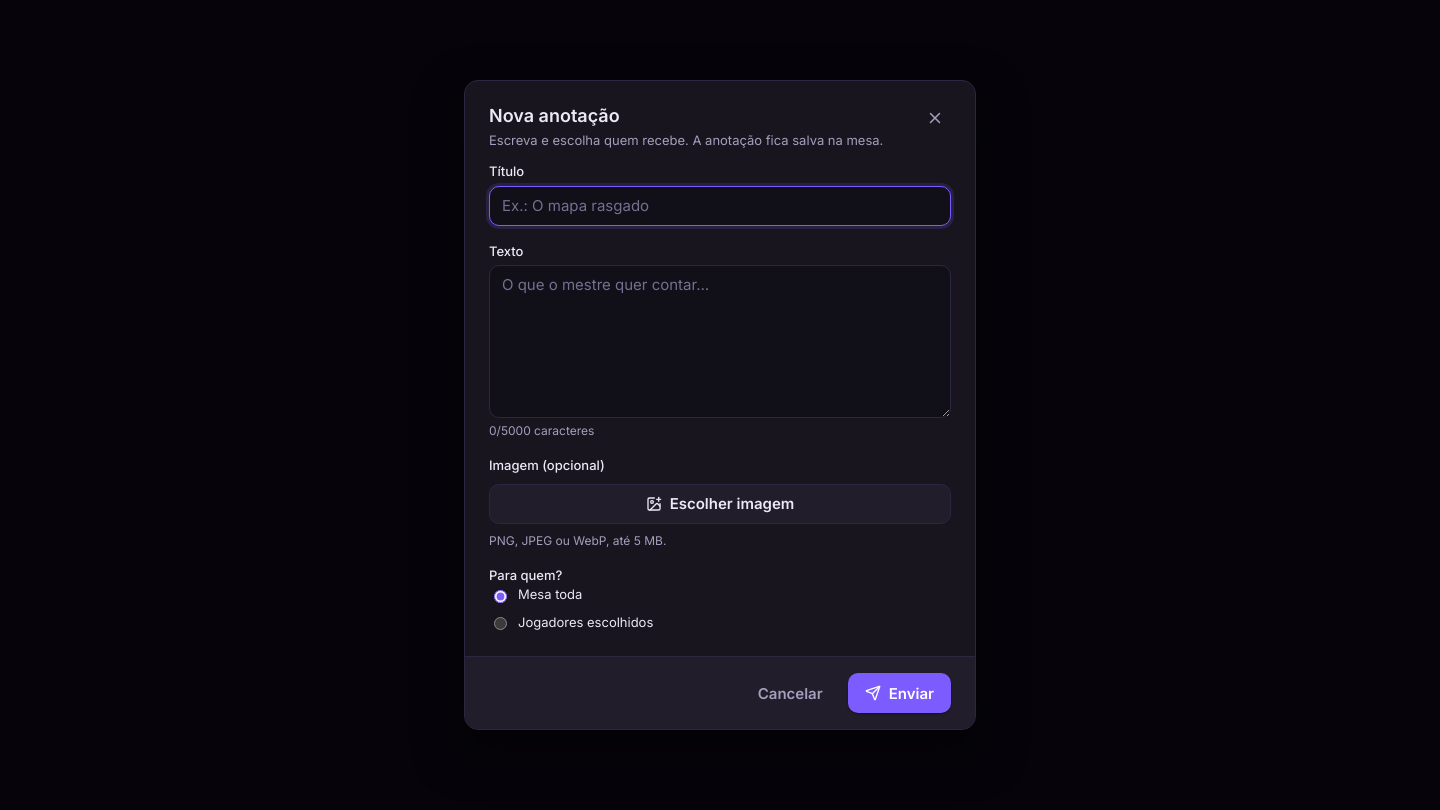
Test case: nova anotação › shouldBringAGroupErrorIntoViewWhenNoFieldIsInvalid
The image size is (1440, 810).
Type "Segredo" into the field labelled "Título".
click(720, 206); type("Segredo")  # box [489, 186, 951, 226]
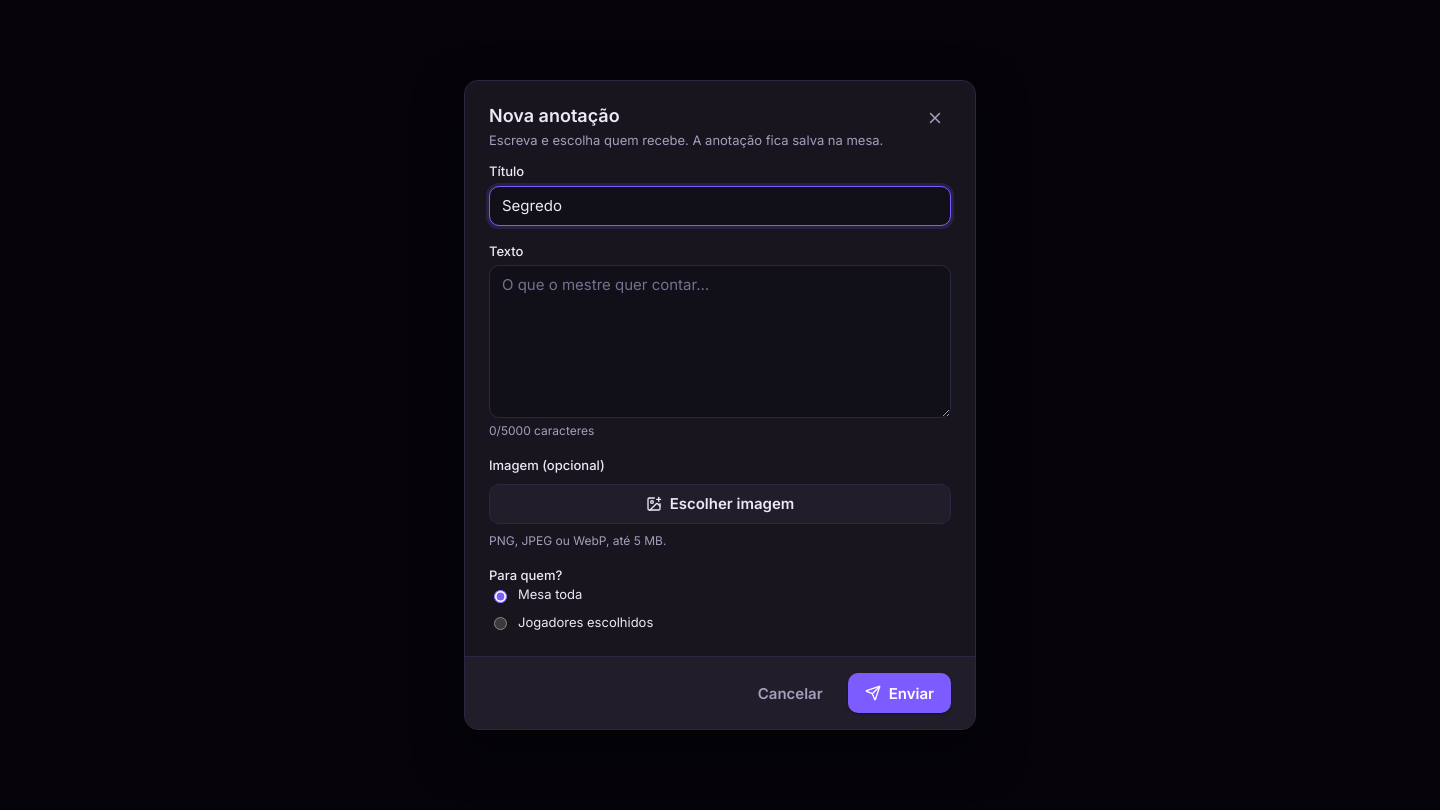
Click the radio button labelled "Jogadores escolhidos".
click(500, 624)  # box [494, 617, 507, 630]
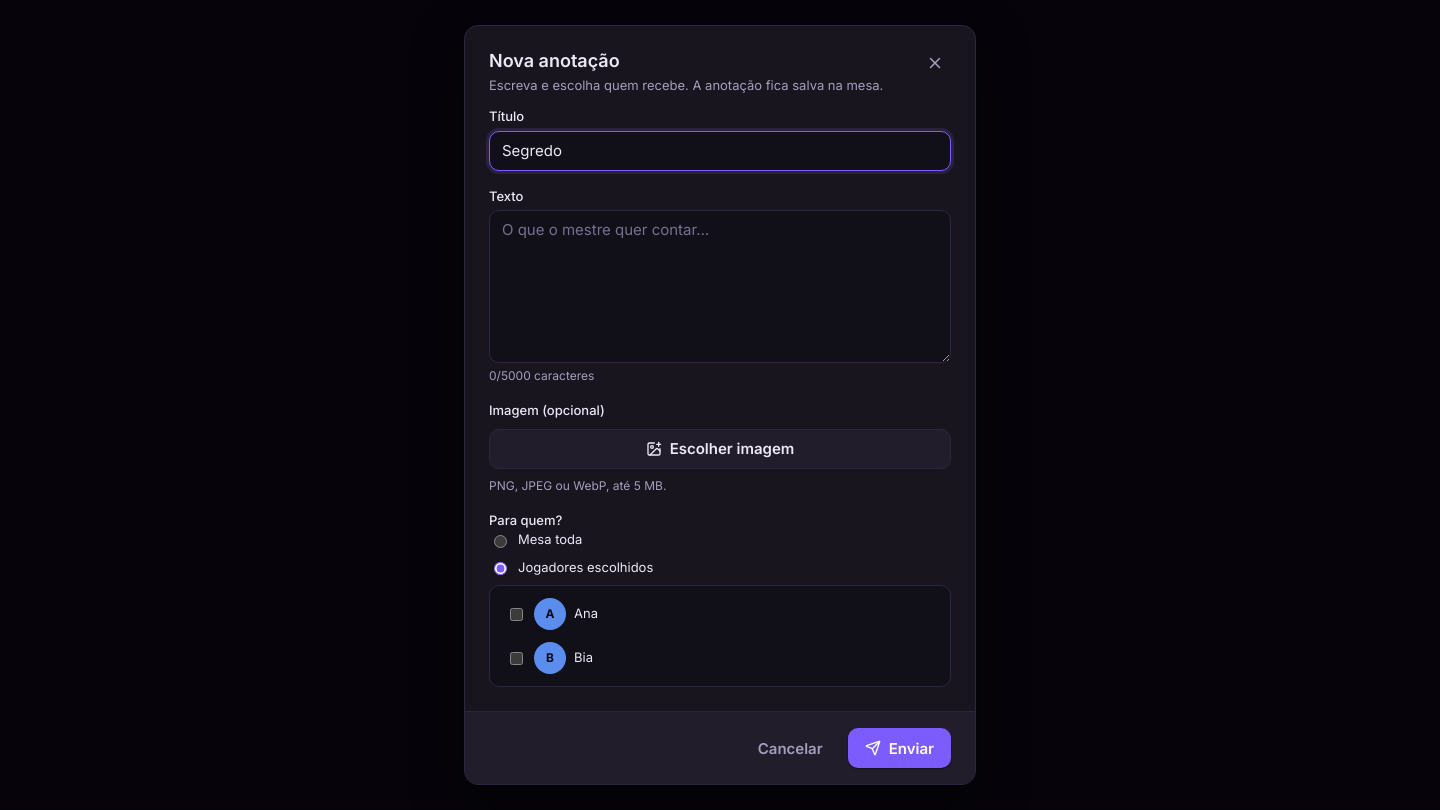
Click the button "Enviar".
click(899, 748)  # box [848, 728, 951, 768]
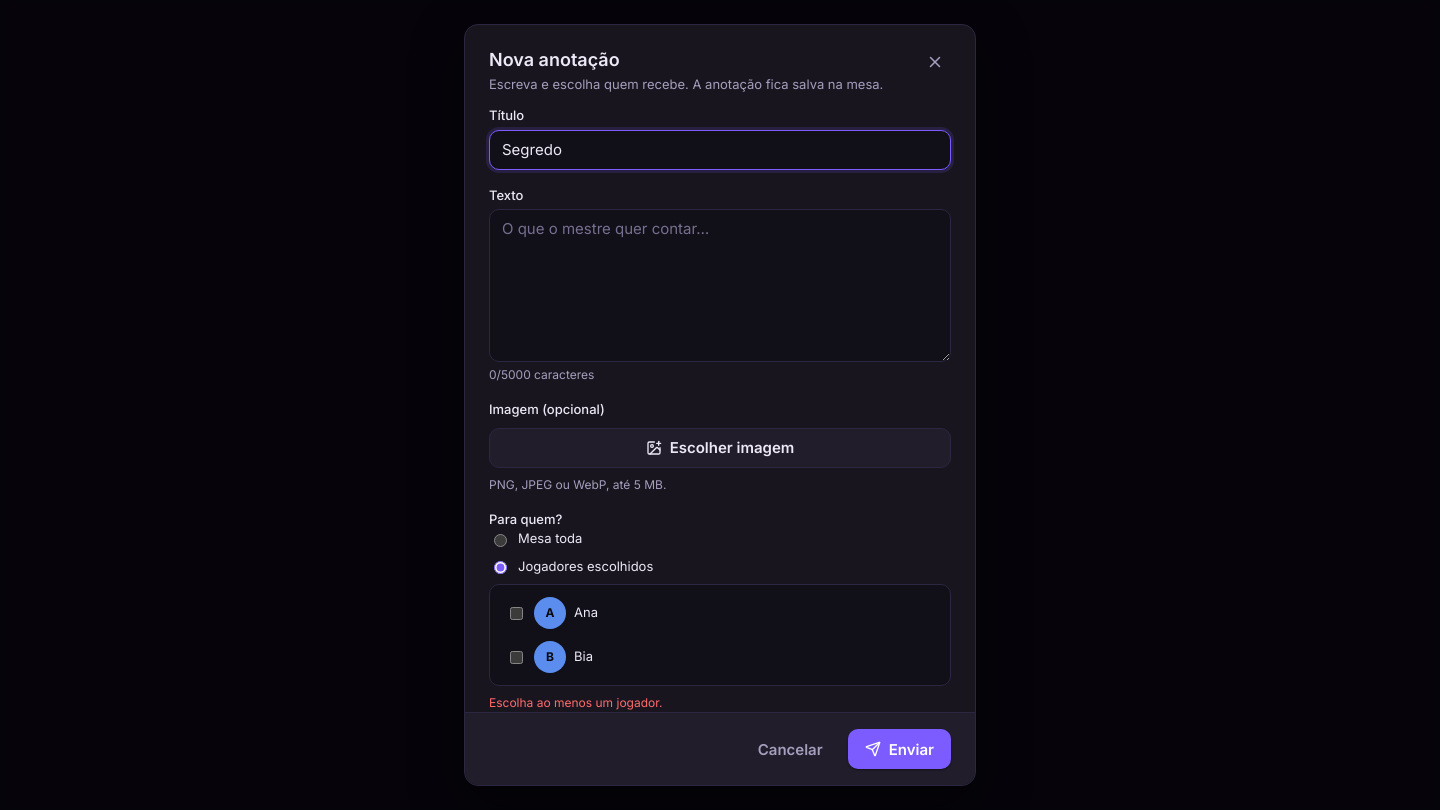
Check: the text "Escolha ao menos um jogador." is shown, box [489, 695, 662, 710]
